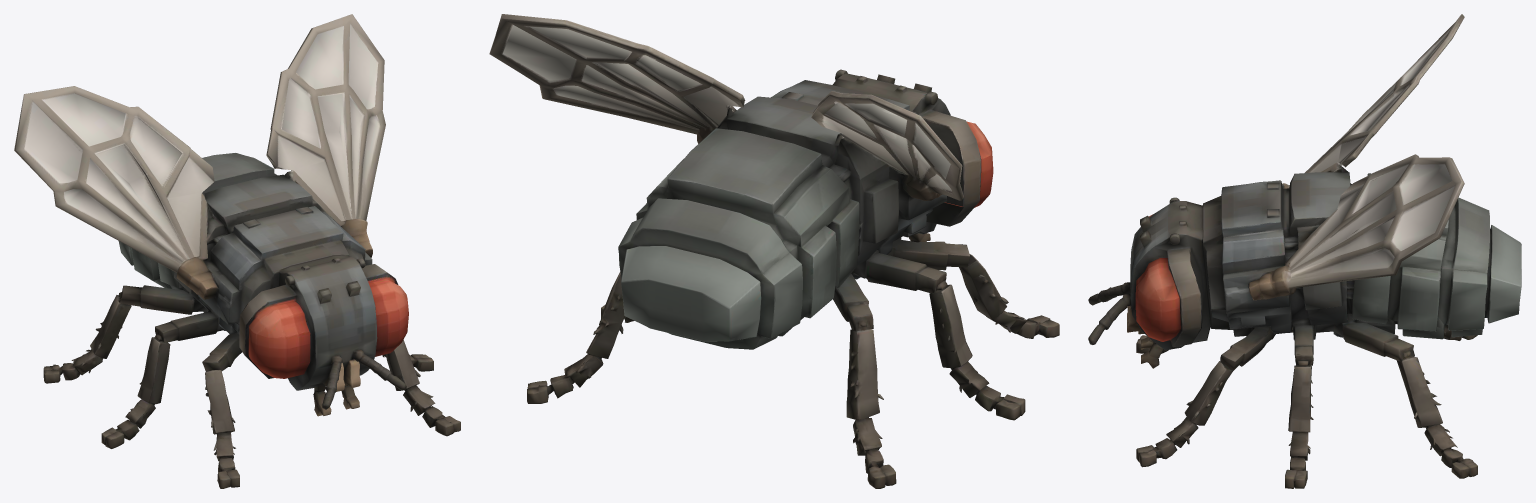
Rendered from call-pcxlnqzbrxqj8kz8opqjr9kg.glb.
The picture shows the model from 3 angles, left to right: view 1: azimuth 30°, elevation 25°; view 2: azimuth 150°, elevation 25°; view 3: azimuth 270°, elevation 25°; orthographic projection. The views are drawn at different scales.
Visible parts, largest first — view 1: tripo_node_ad1e8e54-cd2f-428b-affe-d676583d943b; view 2: tripo_node_ad1e8e54-cd2f-428b-affe-d676583d943b; view 3: tripo_node_ad1e8e54-cd2f-428b-affe-d676583d943b.
Part boxes in pixels (x1,y1,x2,y2): tripo_node_ad1e8e54-cd2f-428b-affe-d676583d943b: (14,14,460,488); tripo_node_ad1e8e54-cd2f-428b-affe-d676583d943b: (489,14,1059,488); tripo_node_ad1e8e54-cd2f-428b-affe-d676583d943b: (1088,14,1521,488).
Size of the model in its own units: 1 by 0.7652 by 0.9706.
Materials: 1 (1 with a texture image).
